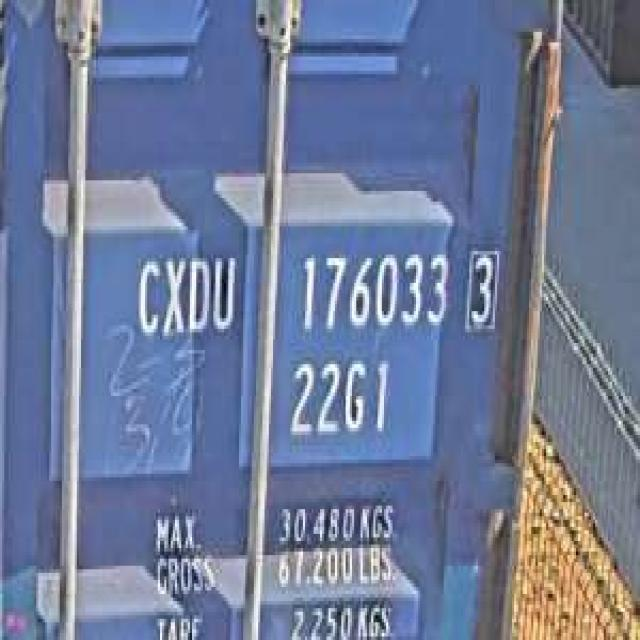dv: (461, 237, 501, 336)
owner: (130, 247, 237, 343)
serial: (292, 240, 452, 336)
size: (284, 350, 394, 446)
